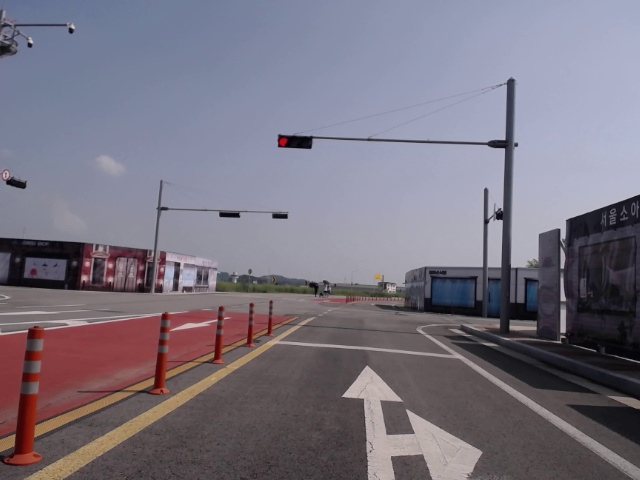red_3: (277, 135, 313, 149)
